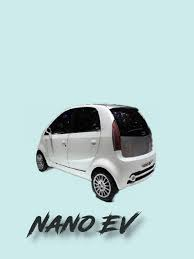Nano: (34, 103, 157, 206)
